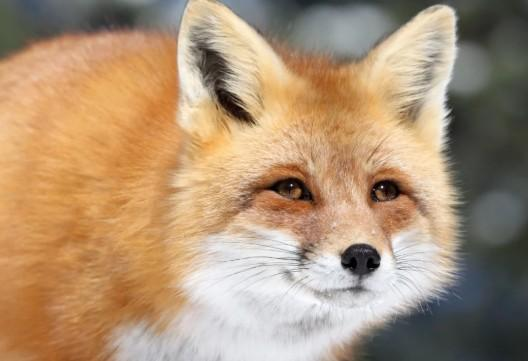fox: (0, 0, 488, 355)
